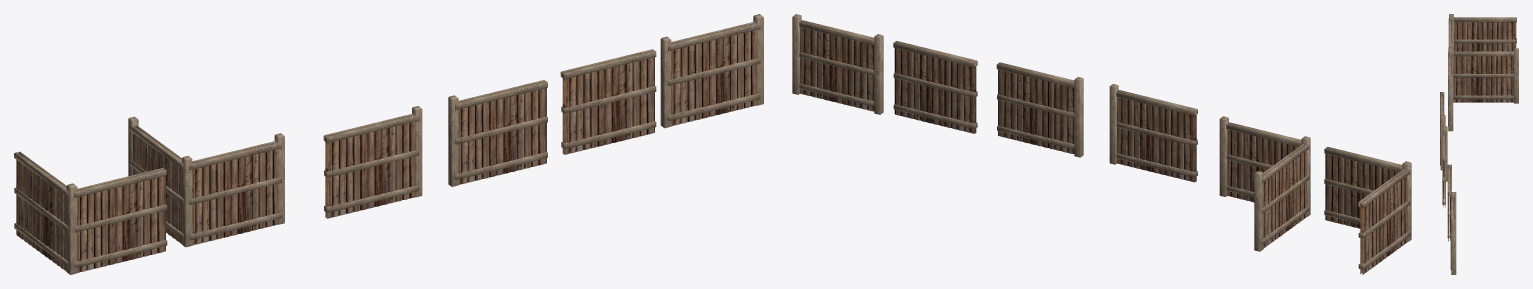
File: ElementsPalissades.FBX
3 renders of one model, left to right at view 1: azimuth 30°, elevation 25°; view 2: azimuth 150°, elevation 25°; view 3: azimuth 270°, elevation 25°, orthographic. The views are drawn at different scales.
Parts seen in each view (by area): view 1: plank_fence_b_corner_in_nocol, plank_fence_b_corner_in, plank_fence_b, plank_fence_b_col_l, plank_fence_b_col_r, plank_fence_b_nocol; view 2: plank_fence_b_corner_in, plank_fence_b_corner_in_nocol, plank_fence_b, plank_fence_b_col_r, plank_fence_b_col_l, plank_fence_b_nocol; view 3: plank_fence_b_corner_in, plank_fence_b_corner_in_nocol, plank_fence_b, plank_fence_b_col_l, plank_fence_b_nocol, plank_fence_b_col_r.
Part boxes in pixels (x1,y1,x2,y2): plank_fence_b_corner_in_nocol: [14, 151, 167, 274]; plank_fence_b_corner_in: [128, 116, 284, 247]; plank_fence_b: [660, 14, 763, 128]; plank_fence_b_col_l: [448, 80, 547, 186]; plank_fence_b_col_r: [323, 106, 422, 218]; plank_fence_b_nocol: [560, 49, 656, 154]; plank_fence_b_corner_in: [1219, 116, 1310, 251]; plank_fence_b_corner_in_nocol: [1324, 146, 1411, 274]; plank_fence_b: [792, 14, 883, 114]; plank_fence_b_col_r: [1109, 84, 1197, 182]; plank_fence_b_col_l: [996, 62, 1083, 157]; plank_fence_b_nocol: [893, 41, 977, 133]; plank_fence_b_corner_in: [1448, 48, 1518, 131]; plank_fence_b_corner_in_nocol: [1448, 14, 1516, 51]; plank_fence_b: [1450, 192, 1456, 274]; plank_fence_b_col_l: [1442, 126, 1447, 207]; plank_fence_b_nocol: [1447, 164, 1451, 241]; plank_fence_b_col_r: [1440, 92, 1445, 170].
Bounding box in the file's own units: 2010 × 243 × 322.
Materials: 1 (1 with a texture image).
